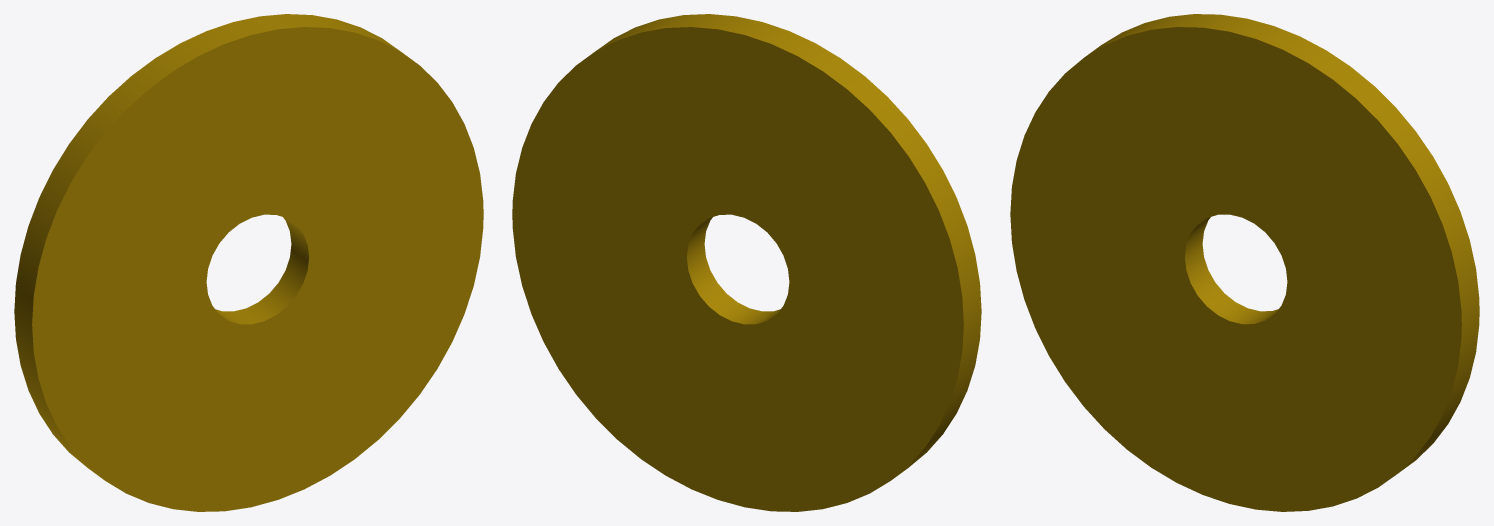
Rendered from five.fbx.
3 views of the same model, side by side, from view 1: azimuth 30°, elevation 25°; view 2: azimuth 150°, elevation 25°; view 3: azimuth 330°, elevation 25° (orthographic).
Visible parts, largest first — view 1: 3DGeom~5; view 2: 3DGeom~5; view 3: 3DGeom~5.
Boxes of the visible parts, left/top/right/bottom form: 3DGeom~5: left=14, top=14, right=483, bottom=511; 3DGeom~5: left=512, top=14, right=981, bottom=511; 3DGeom~5: left=1010, top=14, right=1479, bottom=511.
Size of the model in its own units: 0.022 by 0.0015 by 0.022.
